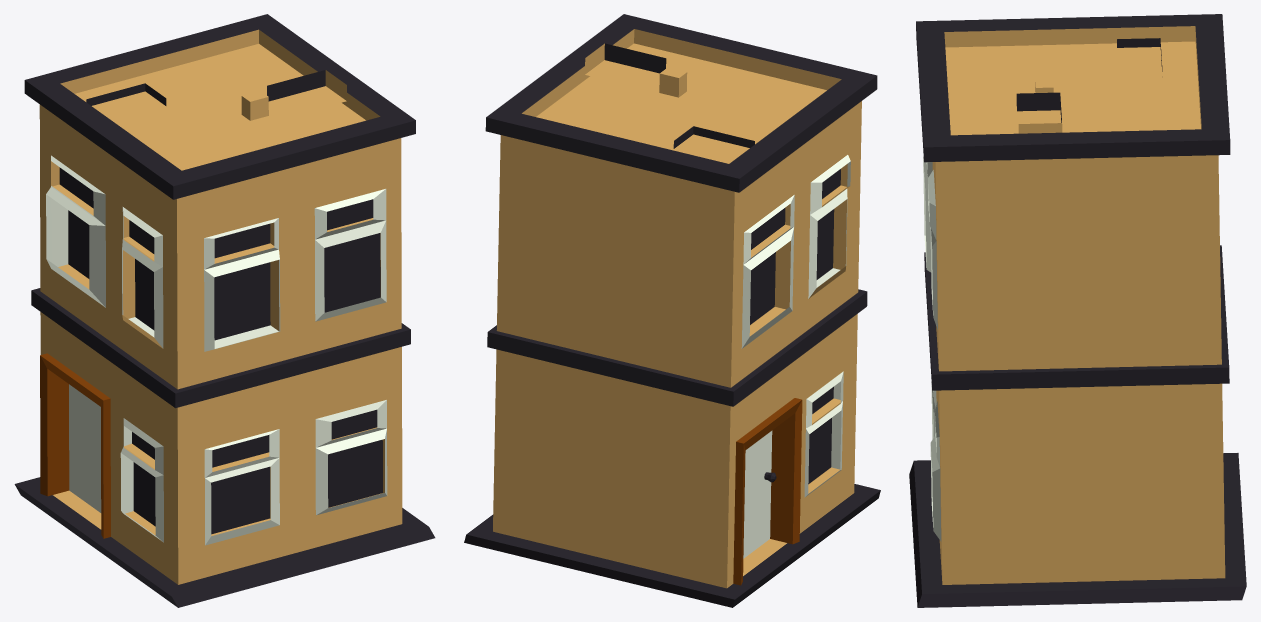
The model's file is BUILD 1 INFRAS.fbx.
3 views of the same model, side by side, from view 1: azimuth 30°, elevation 25°; view 2: azimuth 150°, elevation 25°; view 3: azimuth 270°, elevation 25° (orthographic). The views are drawn at different scales.
Visible parts, largest first — view 1: RUMAH COKLAT; view 2: RUMAH COKLAT; view 3: RUMAH COKLAT.
Part boxes in pixels (box(x1,y1,x2,y2)): RUMAH COKLAT: box(14, 14, 435, 607); RUMAH COKLAT: box(464, 14, 880, 607); RUMAH COKLAT: box(909, 14, 1246, 607).
Size of the model in its own units: 11966 by 18192 by 11937.
